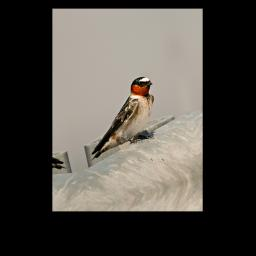Swallow: (77, 72, 165, 161)
